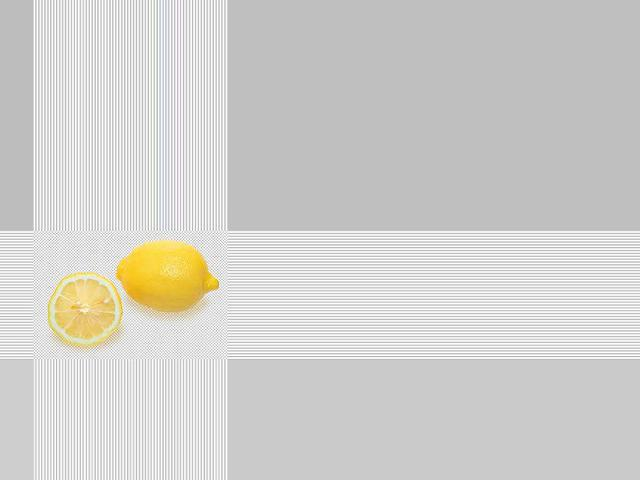lemon: (116, 237, 226, 317)
